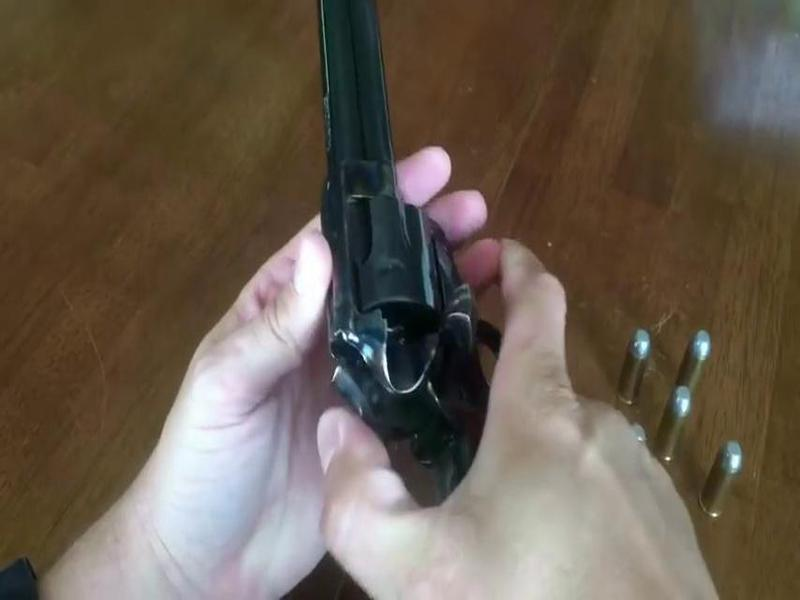Revolver: (265, 17, 534, 516)
